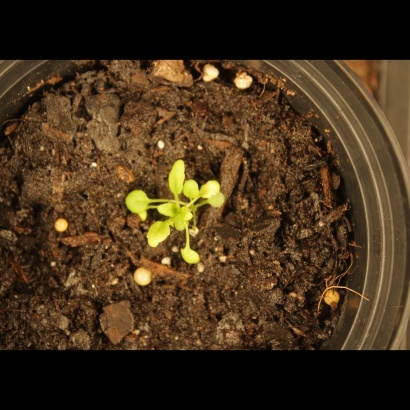leaf: (118, 184, 153, 217), (165, 153, 189, 199), (177, 242, 207, 276), (145, 219, 175, 251), (179, 179, 202, 202), (198, 176, 221, 199), (210, 190, 233, 213), (156, 200, 179, 223), (176, 209, 199, 232)
